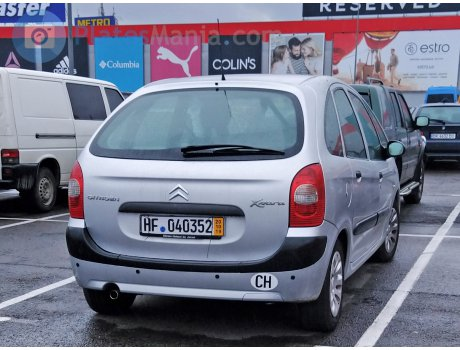License Plates: (143, 216, 211, 229)
